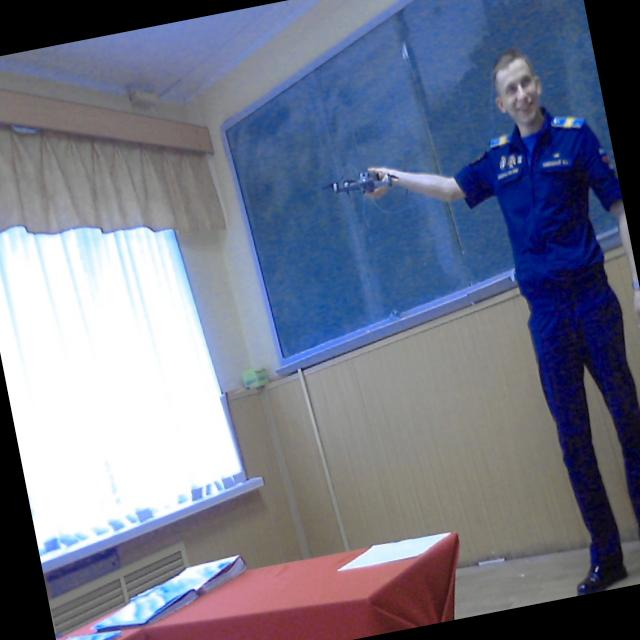drone: (303, 125, 417, 216)
